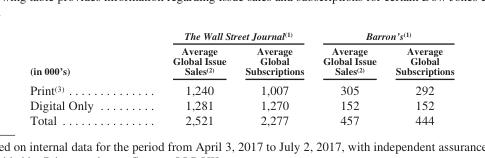table: (29, 29, 453, 127)
table column: (29, 29, 132, 127), (132, 29, 235, 127), (235, 29, 312, 127), (312, 29, 385, 127), (385, 29, 453, 127)
table column header: (29, 29, 453, 79)
table row: (29, 42, 453, 79), (29, 79, 453, 97), (29, 97, 453, 112), (29, 112, 453, 127), (29, 29, 453, 42)
table spanning cell: (29, 29, 132, 79), (132, 29, 312, 42), (312, 29, 453, 42)
